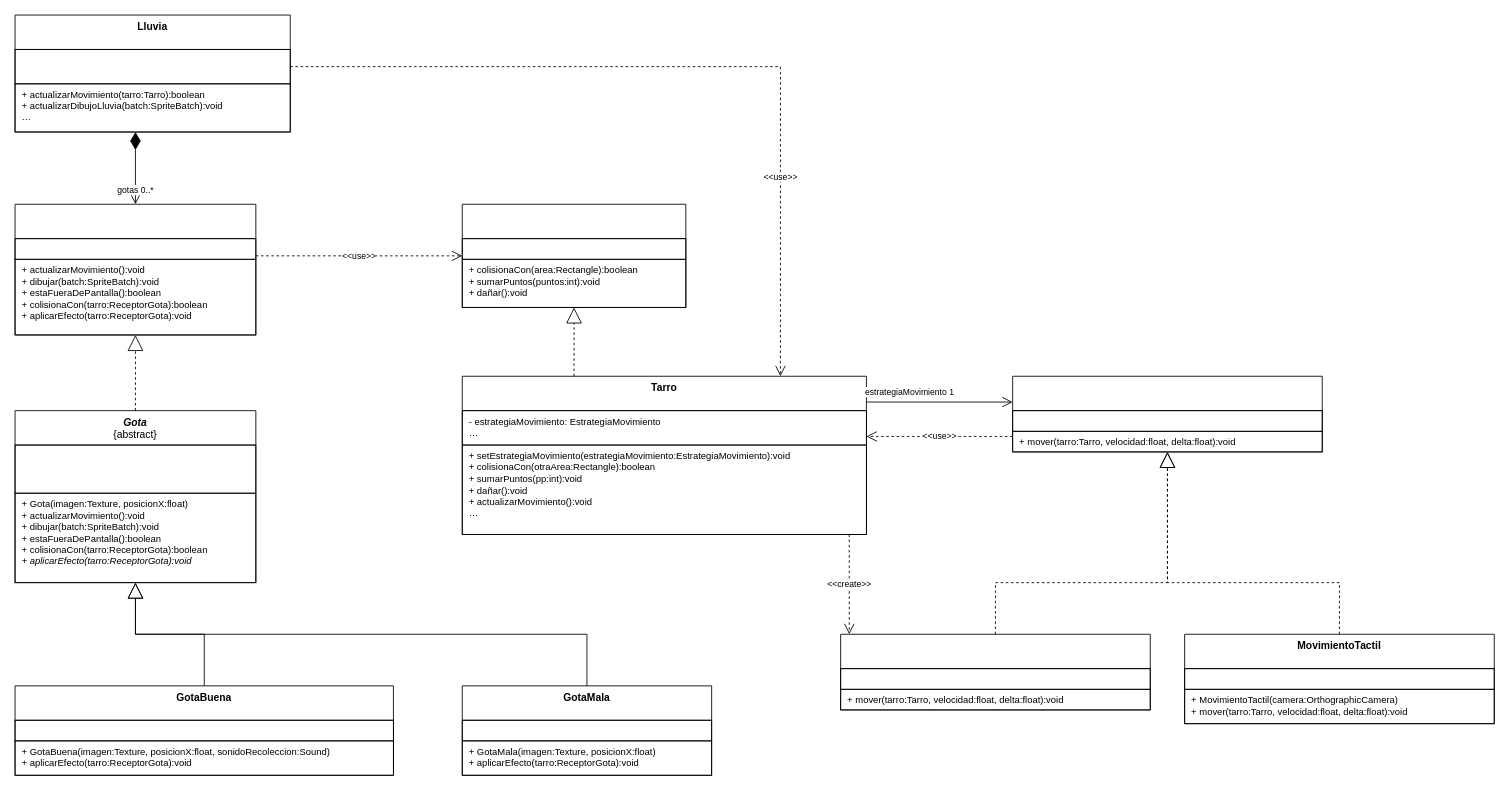
Some shapes in this 1509 by 793 pixel diagram are drawn without their labels. The box of each missing label's shape, as (x1, y1, x2, y2) in pixels:
- area: Rectangle - imagen: Texture - velocidad: int = 300: (14, 444, 256, 493)
- camera: OrthographicCamera {readOnly}: (1184, 668, 1494, 689)
- gotas: Array<ComportamientoGota> …: (14, 49, 290, 84)
- sonidoRecoleccion: Sound: (14, 719, 393, 741)
<<interface>> ComportamientoGota: (14, 203, 256, 335)
<<interface>> EstrategiaMovimiento: (1012, 375, 1322, 452)
<<interface>> ReceptorGota: (461, 203, 686, 307)
MovimientoTeclado: (840, 633, 1150, 710)
